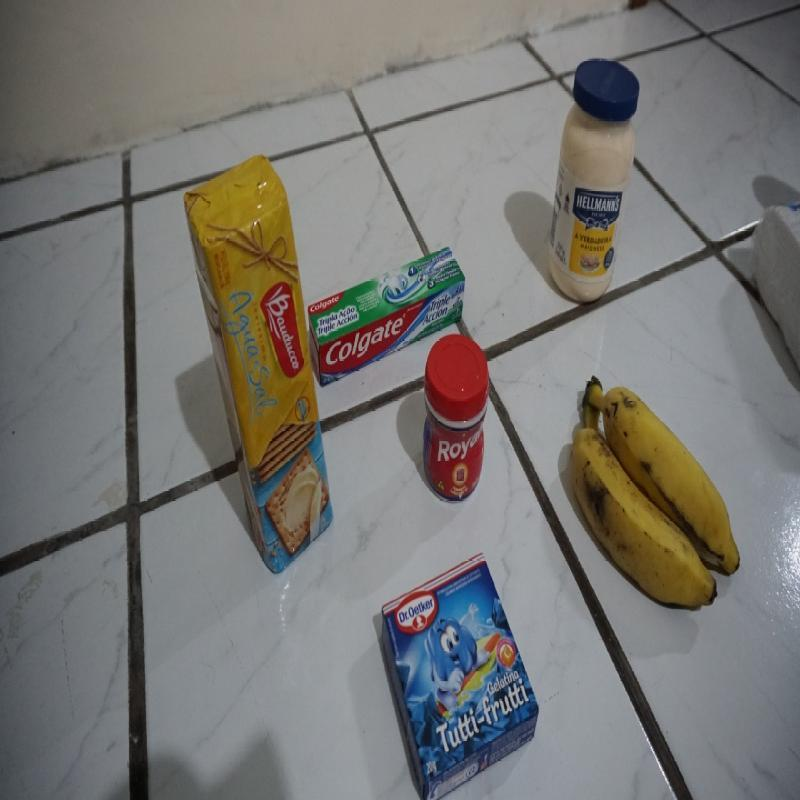Banana: (570, 376, 742, 610)
Cracker: (184, 154, 334, 572)
Gelatine: (380, 553, 540, 800)
Mayonnaise: (549, 57, 641, 306)
Toothpaste: (309, 248, 466, 389)
Yeast: (422, 334, 490, 503)
